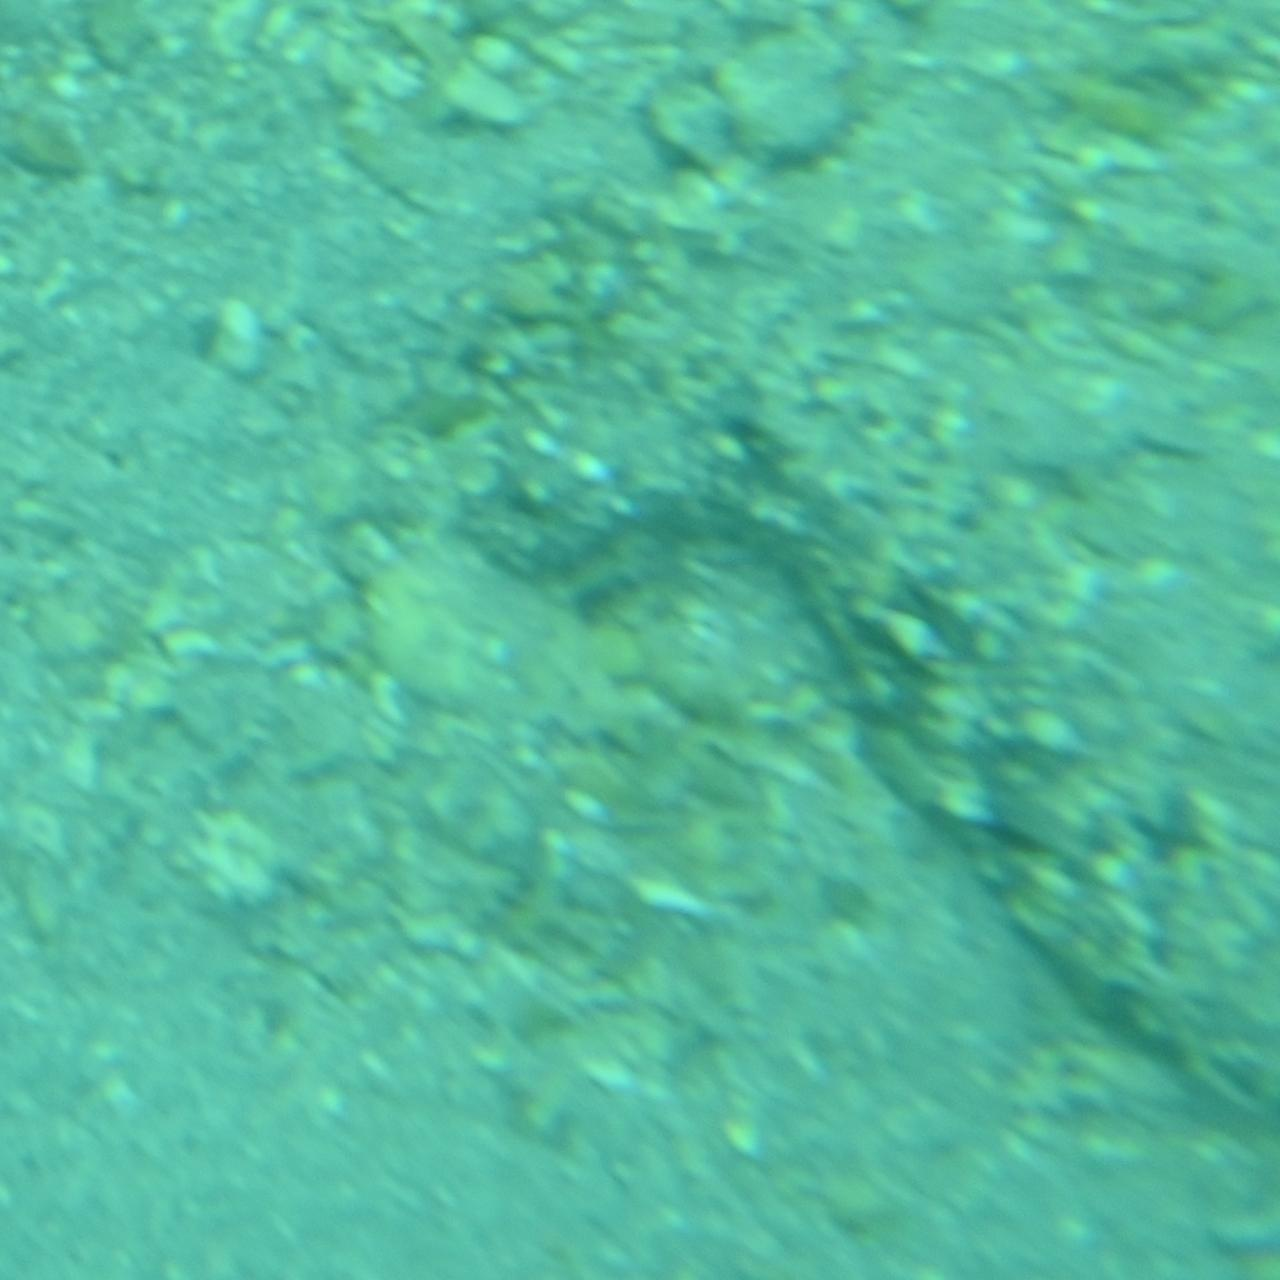Holothuria tubulosa: (441, 338, 1276, 1141)
